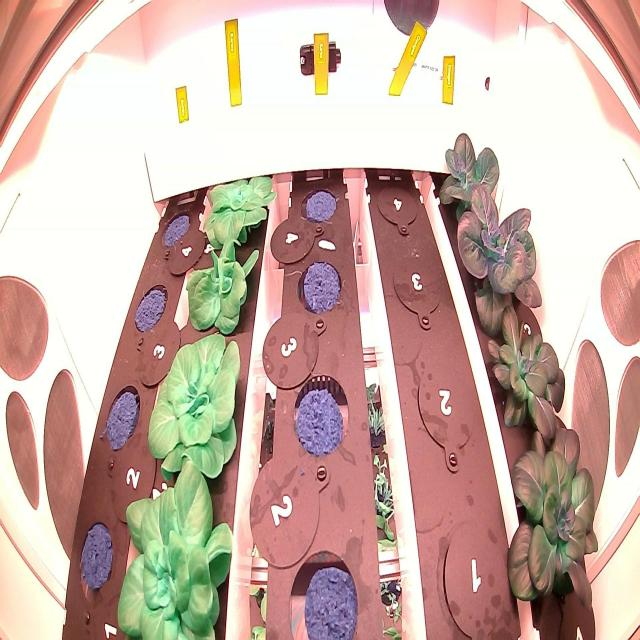empty_pod: (436, 508, 518, 639), (411, 344, 486, 478), (389, 233, 448, 335), (371, 170, 423, 242)
pod: (285, 540, 362, 639), (290, 366, 351, 459), (72, 513, 121, 598), (97, 374, 146, 458), (293, 254, 346, 322), (130, 272, 170, 338), (299, 182, 342, 231), (158, 200, 194, 258)
young: (111, 454, 239, 638), (499, 412, 603, 626), (142, 325, 255, 493), (448, 177, 549, 341), (478, 295, 576, 458), (179, 232, 265, 338), (429, 116, 509, 225), (199, 162, 282, 259)
